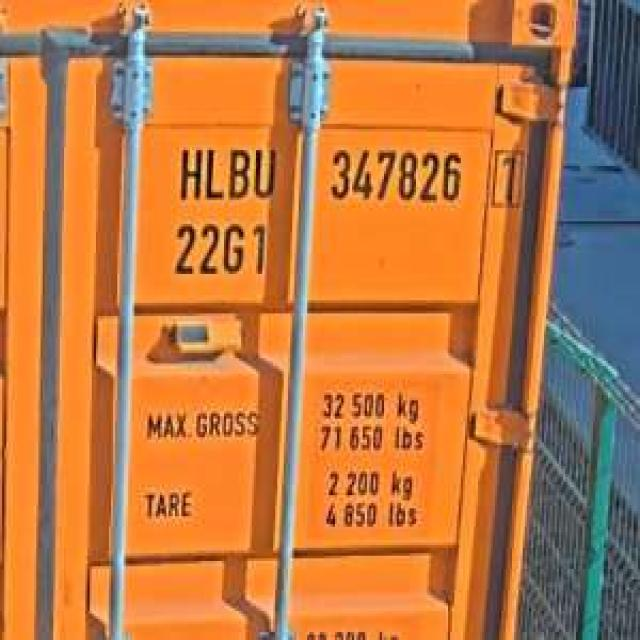dv: (484, 140, 529, 210)
owner: (175, 137, 277, 205)
serial: (324, 142, 465, 211)
size: (168, 216, 271, 282)
